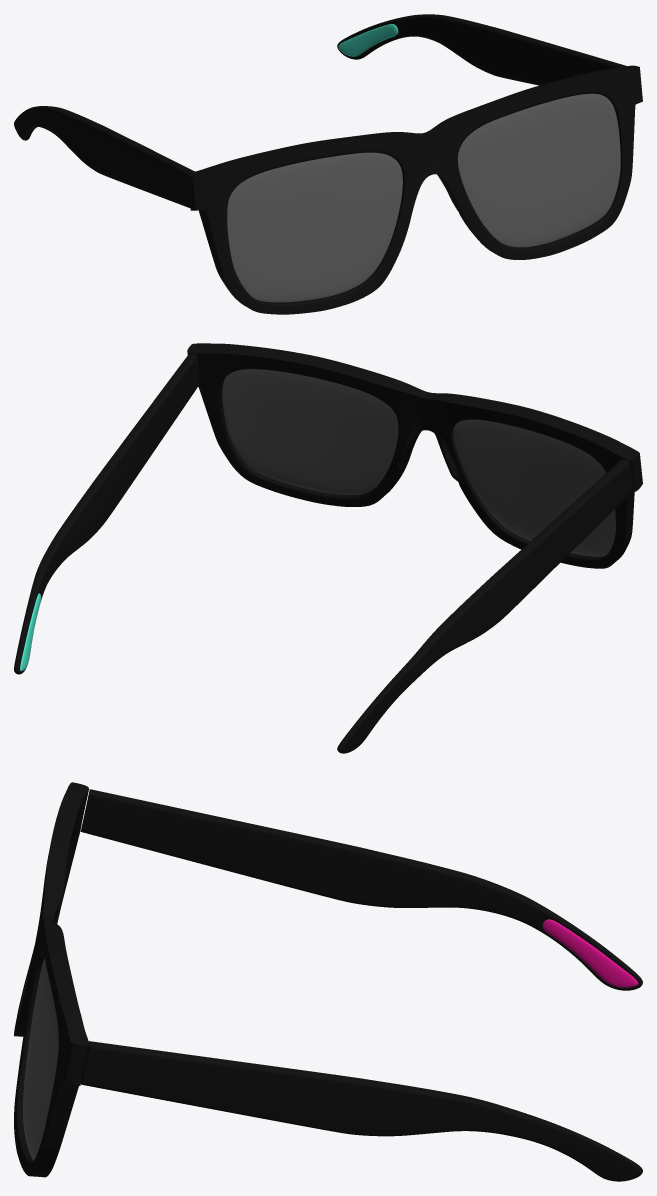
3 views of the same model, one above another, from view 1: azimuth 30°, elevation 25°; view 2: azimuth 150°, elevation 25°; view 3: azimuth 270°, elevation 25° (orthographic). The views are drawn at different scales.
Visible parts, largest first — view 1: lens_1, frame_0; view 2: frame_0, lens_1; view 3: frame_0, lens_1.
Boxes of the visible parts, x1=… form: lens_1: x1=227, y1=93, x2=620, y2=302; frame_0: x1=14, y1=14, x2=642, y2=314; frame_0: x1=14, y1=343, x2=642, y2=753; lens_1: x1=222, y1=369, x2=615, y2=556; frame_0: x1=14, y1=782, x2=642, y2=1181; lens_1: x1=23, y1=958, x2=58, y2=1160.
Size of the model in its own units: 1.97 by 0.6462 by 2.
